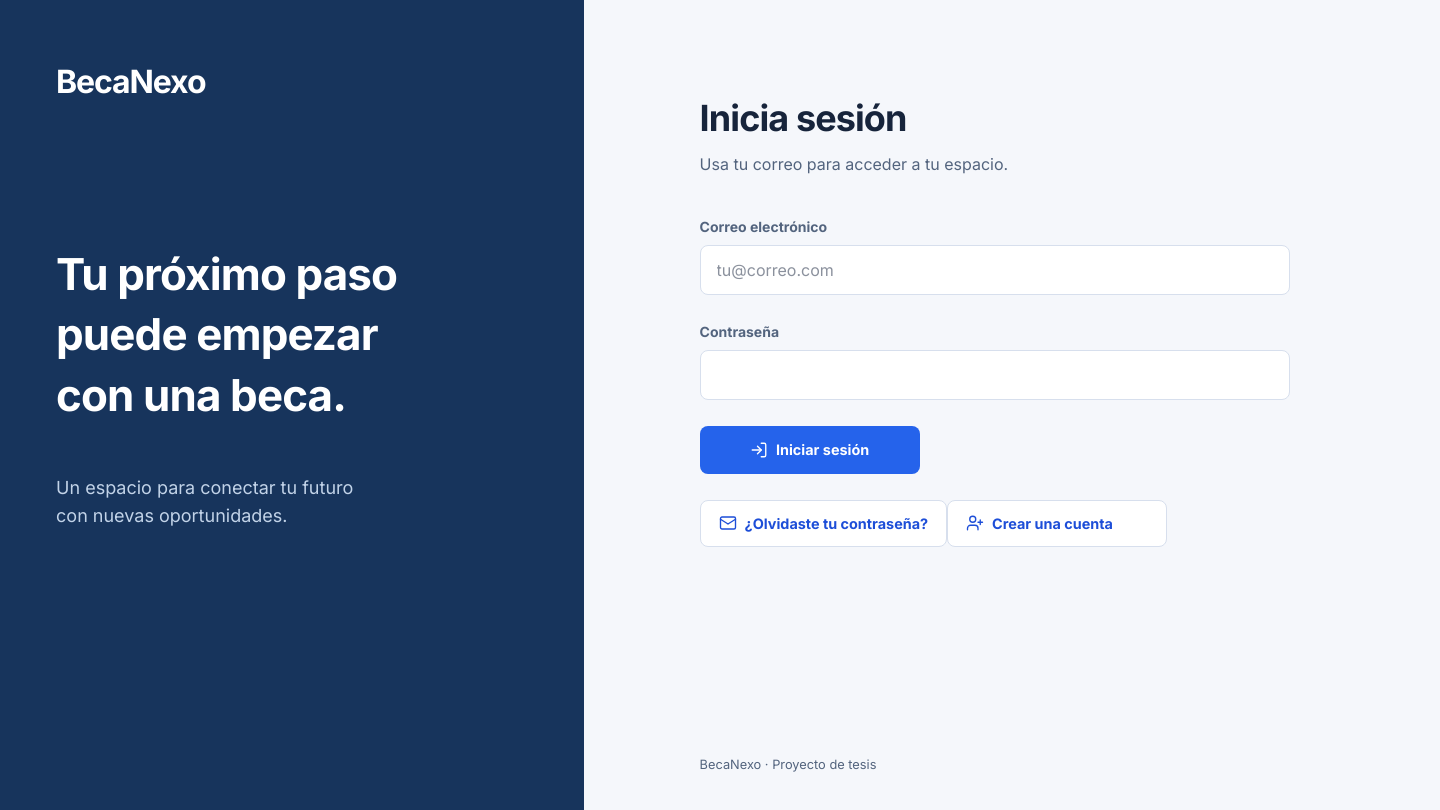
Test case: permite volver a la bienvenida desde /login?next=%2Fbecas%2F12
The image size is (1440, 810).
Expected: the heading "Inicia sesión" is shown, x1=700 y1=96 x2=907 y2=140
Click the link with aria-label "BecaNexo, volver al inicio": [131, 82] box x1=56 y1=62 x2=206 y2=101
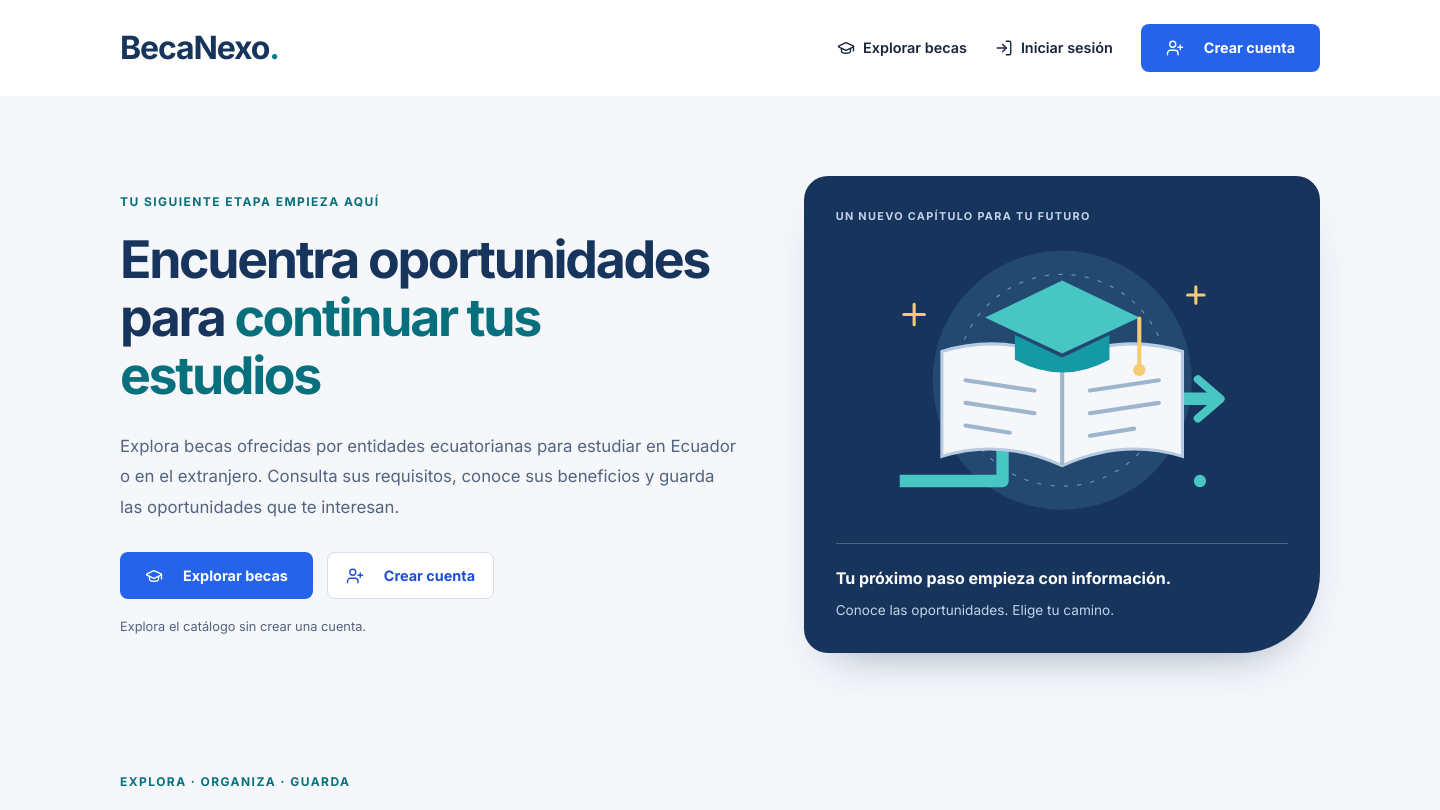
Now the heading "Encuentra oportunidades para continuar tus estudios" is shown, box x1=120 y1=231 x2=740 y2=405
